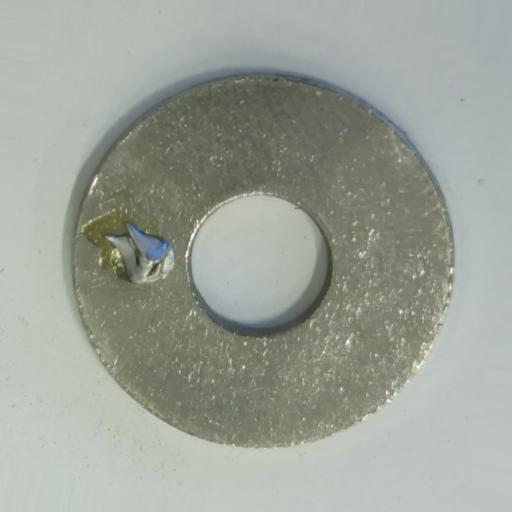excess_material: (102, 221, 175, 283)
